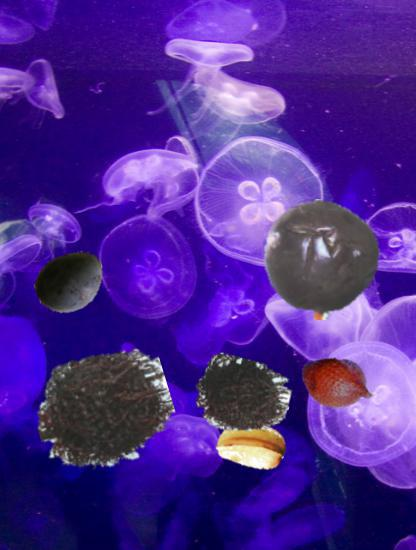Carambula: (217, 410, 287, 480)
Passion: (261, 199, 383, 321)
Plum: (35, 247, 107, 319)
Rambutan: (35, 342, 173, 480), (194, 348, 291, 445)
Salak: (300, 346, 375, 421)
